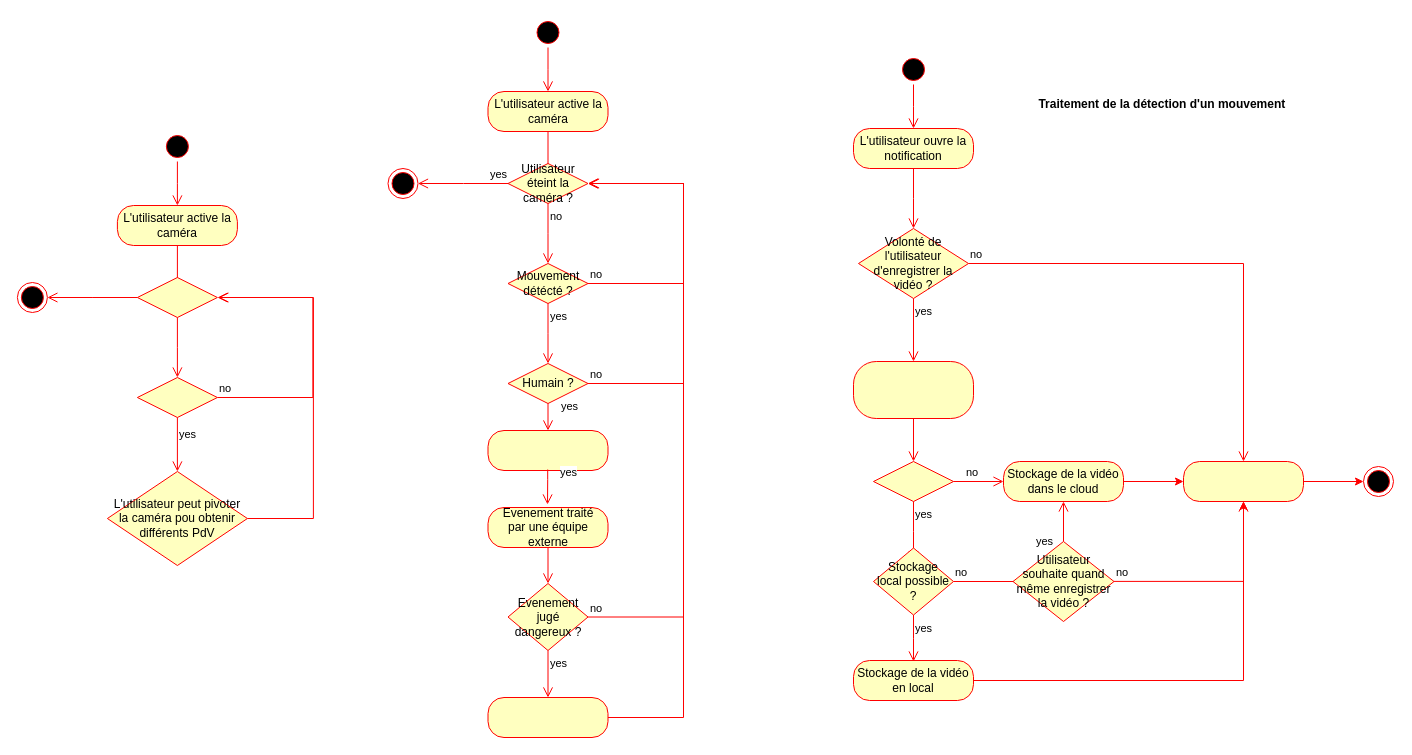
This 1412x755 diagram has some shape labels left out. The centre of each missing label's shape, as x and y in pixels:
Caméra mobile: point 176,397
Contact des autorités: point 547,717
Enregistrement des 10 dernières secondes passées + du mouvement: point 913,389
Marquage de la notification comme "lue": point 1243,481
Notification envoyée a/aux utilisateur(s): point 547,450
Utilisateur visualise le flux en direct: point 176,297
Vidéo lourde ?: point 913,481
